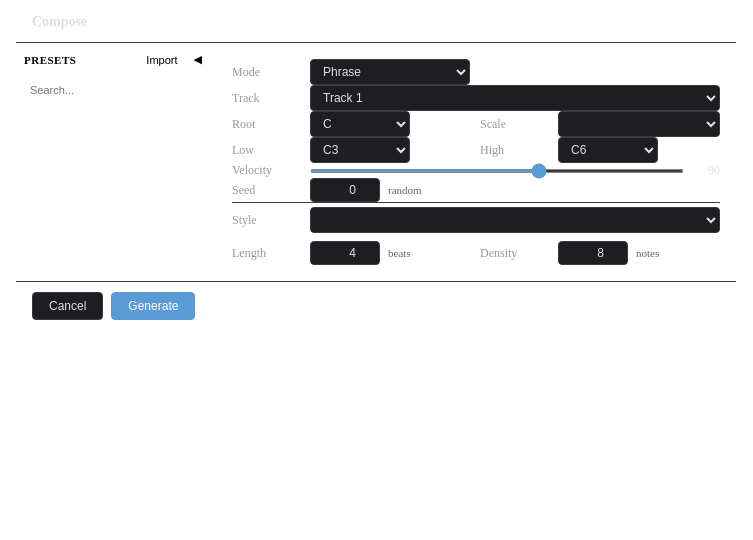
Test: ComposeTab rhythm mode › shows the Song Plan panel and hides the generator footer in mode 6
Select "Song Plan" in the dropdown named "Mode": (390, 72) x1=310 y1=59 x2=470 y2=85
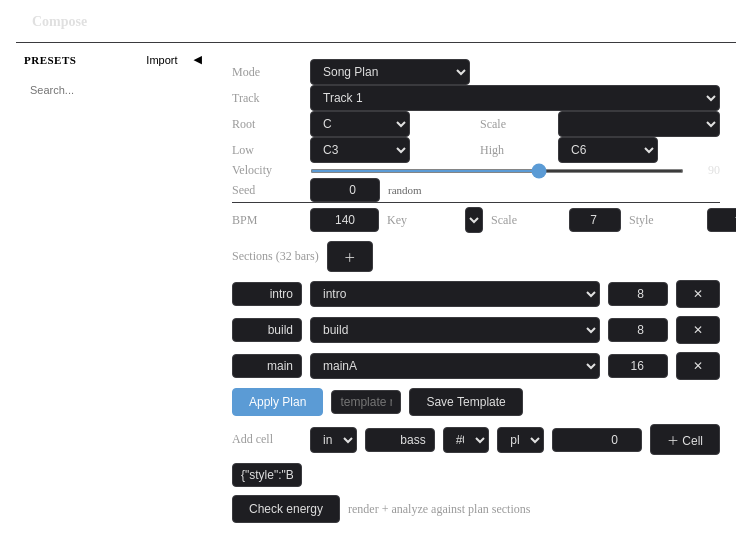
Result: the element with test id "song-plan-panel" is shown at x1=232 y1=202 x2=720 y2=523
Result: the button "Generate" is gone
